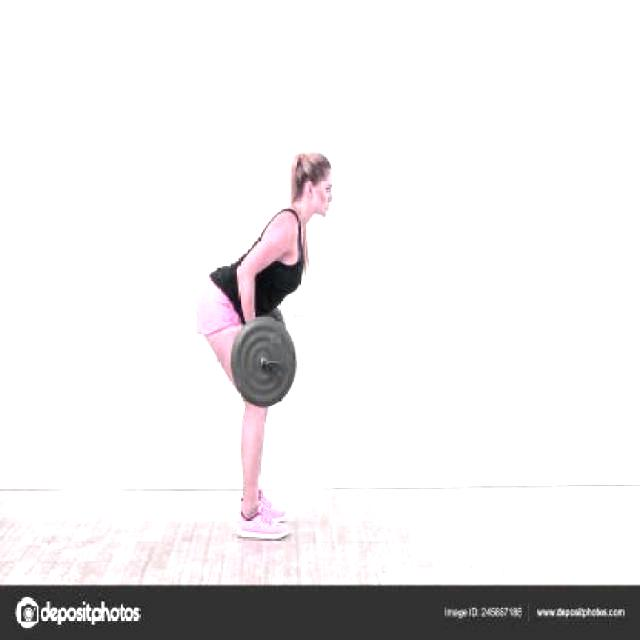barbell: (228, 313, 301, 412)
